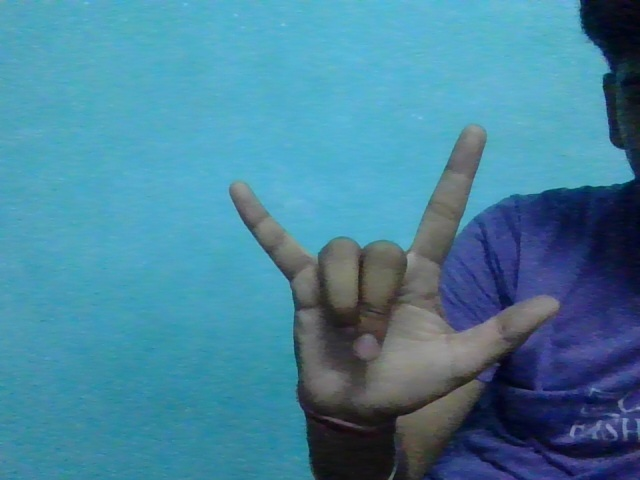iloveyou: (216, 122, 563, 408)
